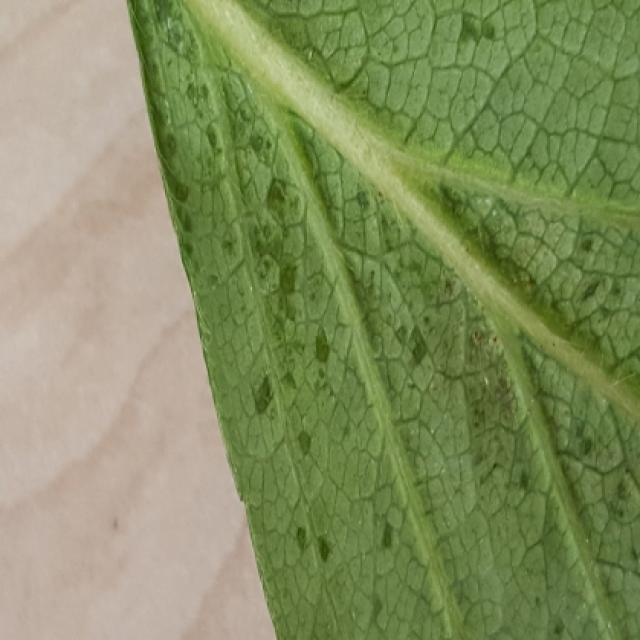Angular Leafspot: (127, 0, 638, 638)
